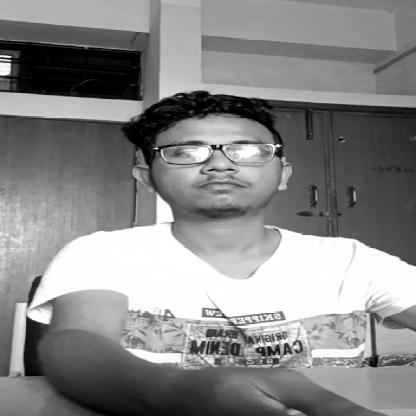Normal: (160, 117, 309, 240)
